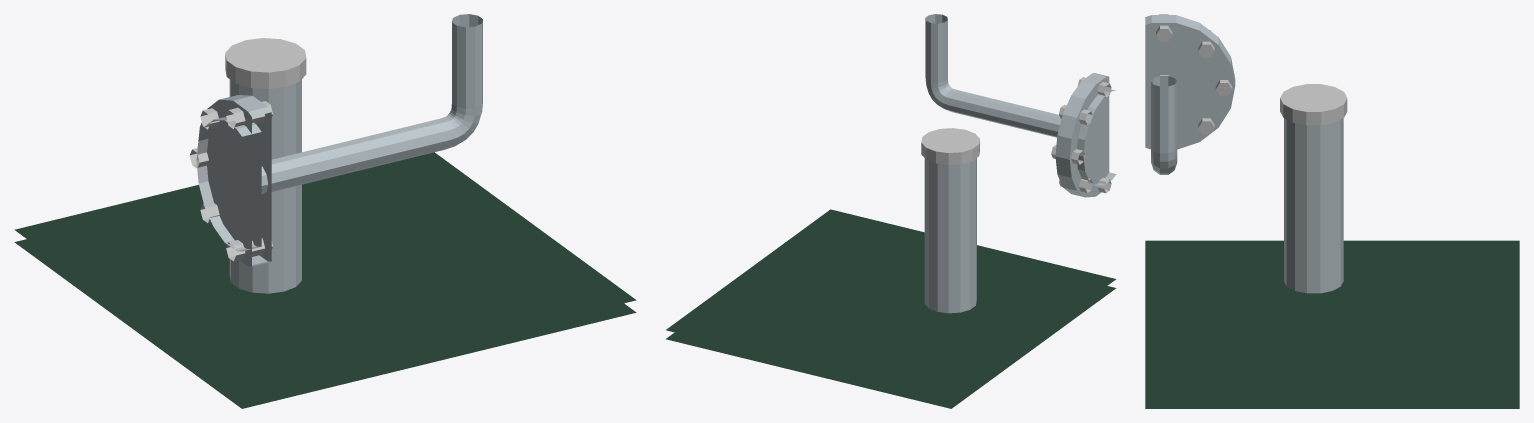
The model's file is cell_17.obj.
3 renders of one model, left to right at view 1: azimuth 30°, elevation 25°; view 2: azimuth 150°, elevation 25°; view 3: azimuth 270°, elevation 25°, orthographic. The views are drawn at different scales.
Bounding box in the file's own units: 1 × 0.78 × 1.
